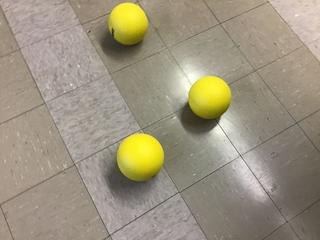power_cell: (116, 131, 167, 184), (184, 72, 232, 123), (106, 1, 149, 49)
